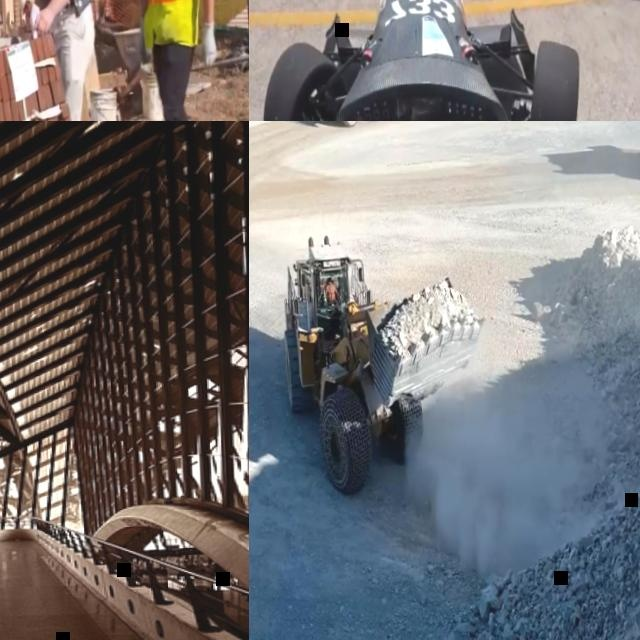Hardhat: (15, 0, 27, 11)
NO-Hardhat: (326, 279, 331, 285)
NO-Safety Vest: (25, 3, 38, 37), (325, 288, 335, 303)
Person: (131, 0, 226, 121), (24, 0, 104, 121), (15, 0, 38, 35), (322, 279, 339, 303)
Safety Vest: (139, 0, 220, 49)
machinery: (271, 221, 493, 500)
vehicle: (249, 0, 605, 121)
